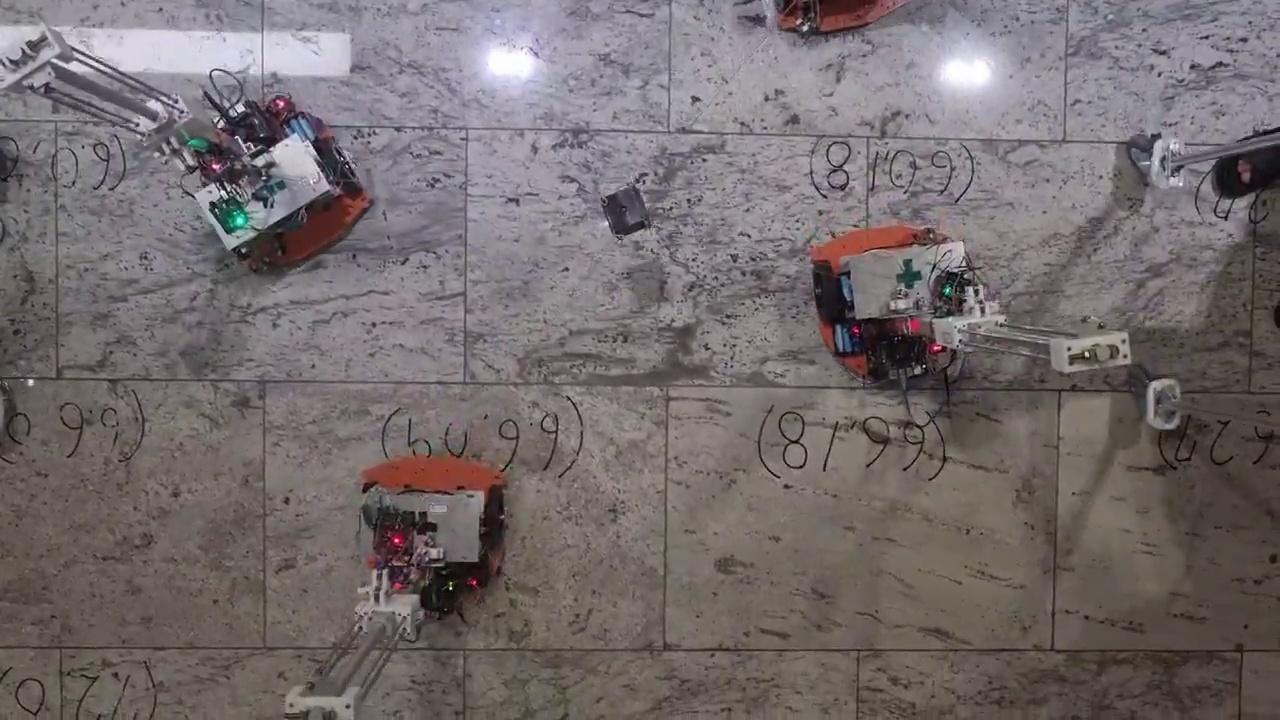e0: (601, 185, 650, 237)
r1: (811, 244, 974, 325)
r2: (852, 2, 870, 14)
r3: (212, 136, 363, 260)
r4: (358, 480, 508, 548)
y_+_axis_vector: (465, 383, 865, 388)
y_-_axis_vector: (57, 379, 465, 383)
